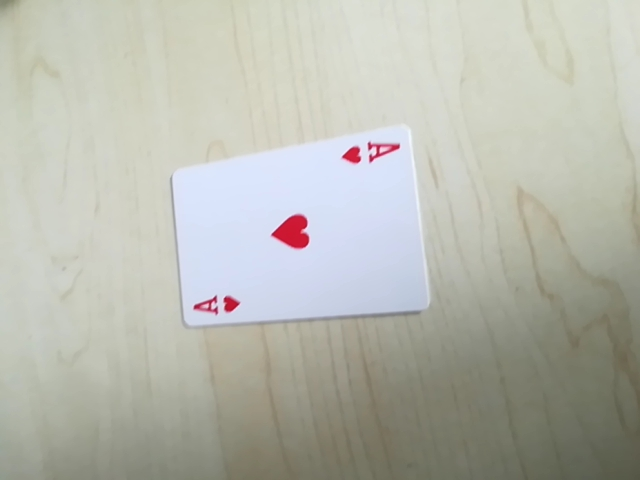hx a: (337, 134, 404, 171), (185, 287, 246, 324)
